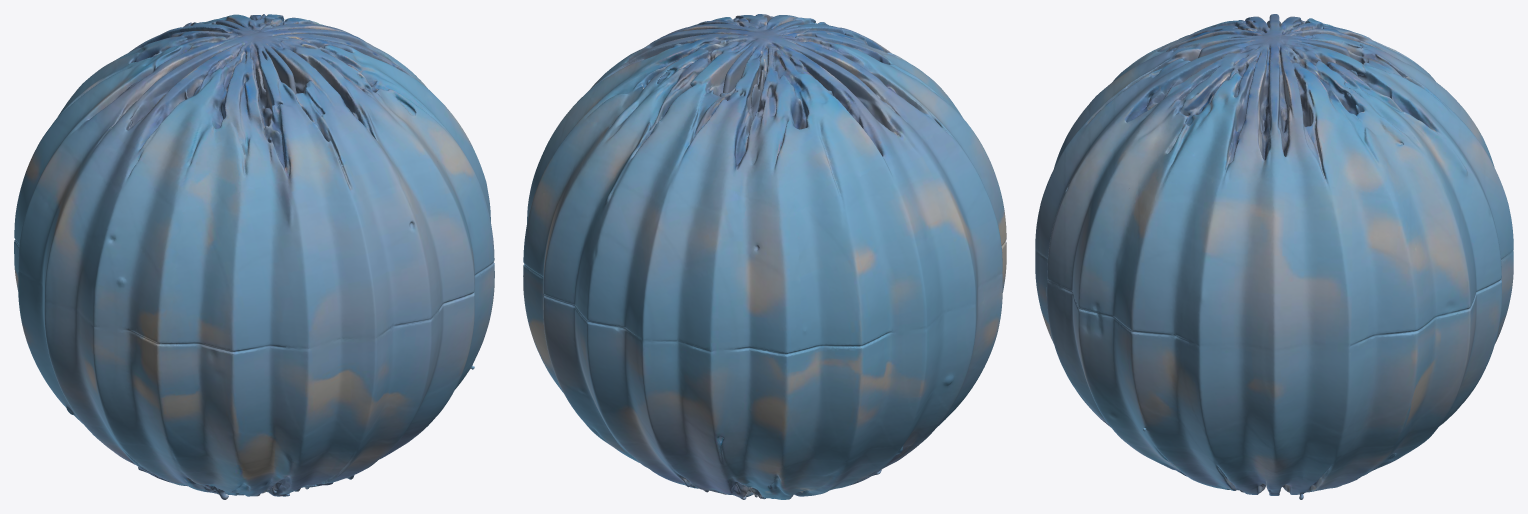
Rendered from detailed_realistic_model_crystalball_07.glb.
3 renders of one model, left to right at view 1: azimuth 30°, elevation 25°; view 2: azimuth 150°, elevation 25°; view 3: azimuth 270°, elevation 25°, orthographic.
Visible parts, largest first — view 1: tripo_node_31ca9085-eed2-45ab-b9fa-a31443a50a3a; view 2: tripo_node_31ca9085-eed2-45ab-b9fa-a31443a50a3a; view 3: tripo_node_31ca9085-eed2-45ab-b9fa-a31443a50a3a.
Boxes of the visible parts, x1,y1,x2,y2 form: tripo_node_31ca9085-eed2-45ab-b9fa-a31443a50a3a: [14, 14, 494, 499]; tripo_node_31ca9085-eed2-45ab-b9fa-a31443a50a3a: [523, 14, 1006, 499]; tripo_node_31ca9085-eed2-45ab-b9fa-a31443a50a3a: [1035, 14, 1513, 499].
Size of the model in its own units: 0.9999 by 0.9998 by 0.9991.
Materials: 1 (1 with a texture image).
